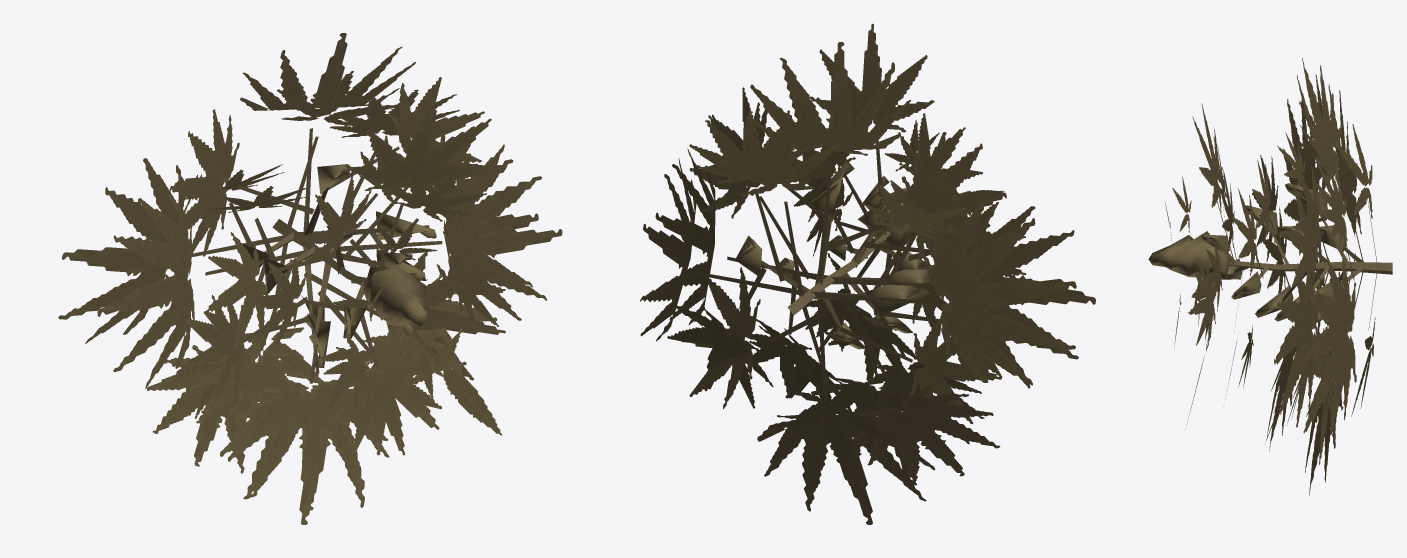
The model's file is p_landrace_flowering_c4_cards.obj.
The picture shows the model from 3 angles, left to right: view 1: azimuth 30°, elevation 25°; view 2: azimuth 150°, elevation 25°; view 3: azimuth 270°, elevation 25°; orthographic projection. The views are drawn at different scales.
Bounding box in the file's own units: 1.52 × 1.5 × 0.706.
1 material, 1 textured.
